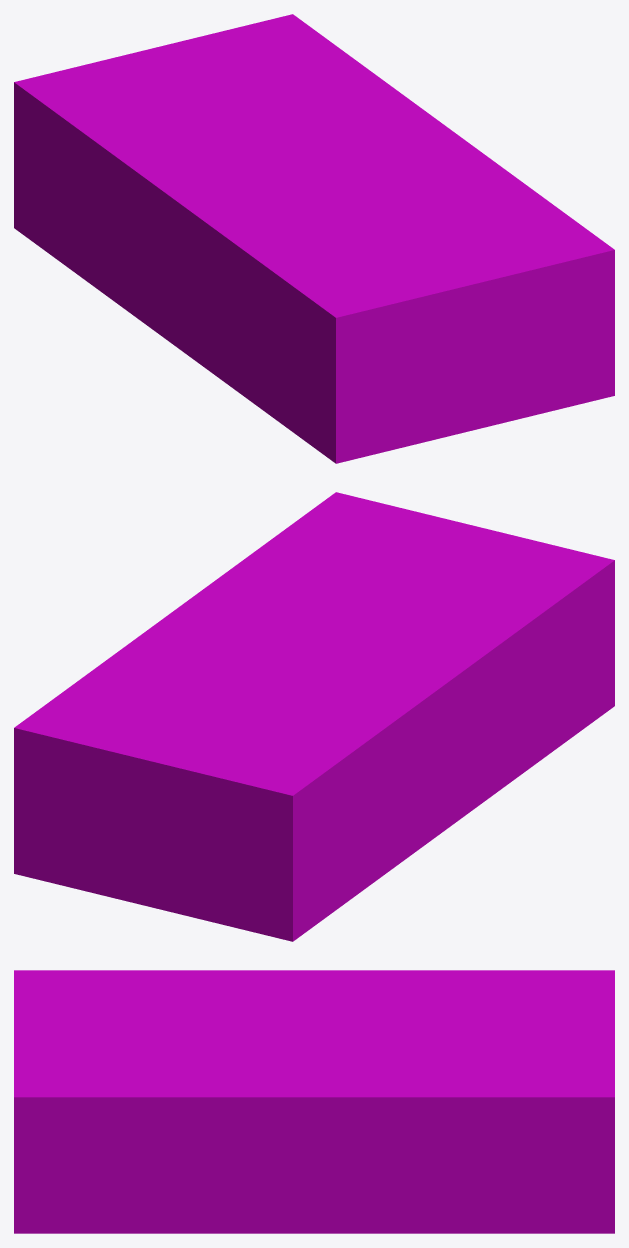
The model's file is color.dae.
3 renders of one model, top to bottom at view 1: azimuth 30°, elevation 25°; view 2: azimuth 150°, elevation 25°; view 3: azimuth 270°, elevation 25°, orthographic. The views are drawn at different scales.
Parts seen in each view (by area): view 1: Walls; view 2: Walls; view 3: Walls.
Boxes of the visible parts, bbox=[...] form: Walls: bbox=[14, 14, 614, 463]; Walls: bbox=[14, 492, 614, 941]; Walls: bbox=[14, 970, 614, 1233].
Bounding box in the file's own units: 4 × 8 × 2.
